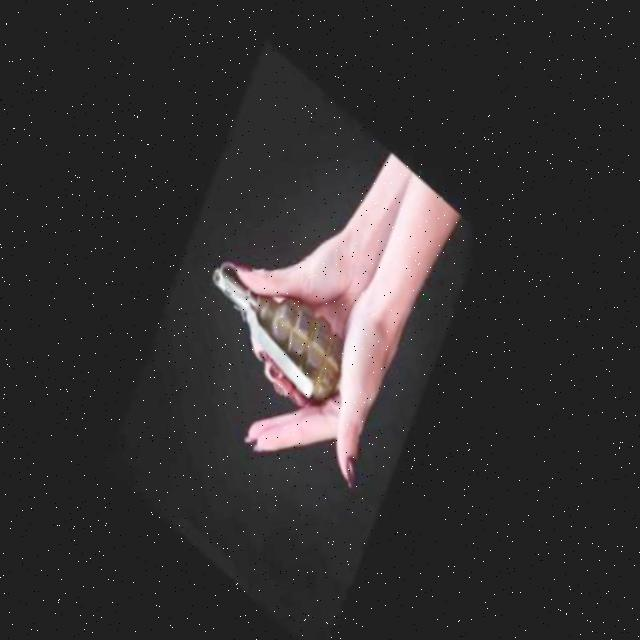grenade: (200, 216, 388, 433)
